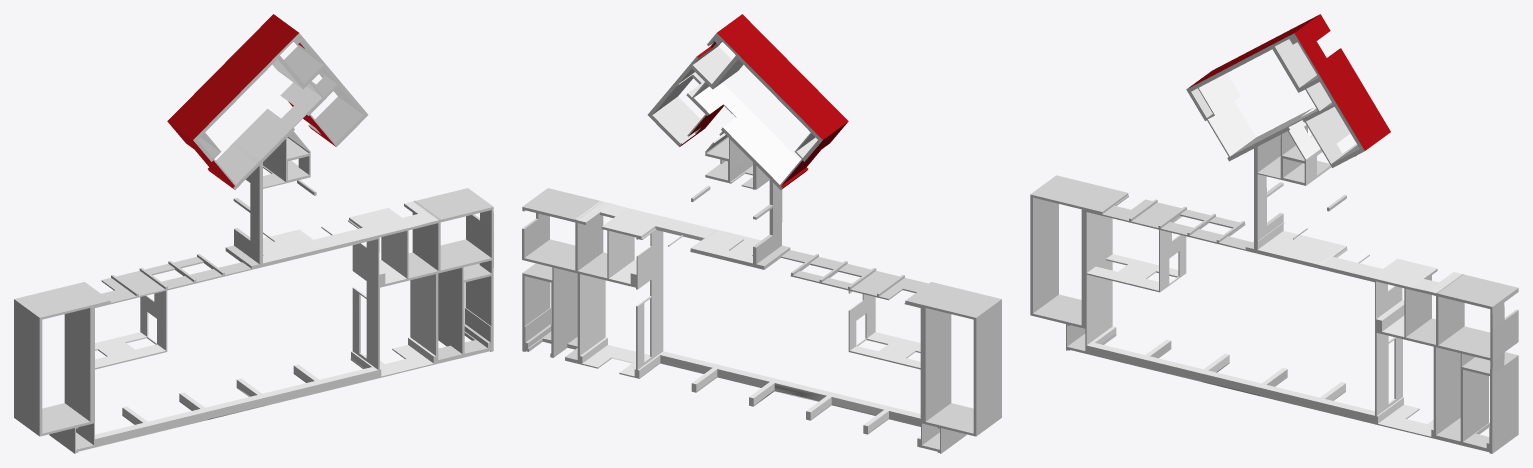
File: walls.obj
3 views of the same model, side by side, from view 1: azimuth 30°, elevation 25°; view 2: azimuth 150°, elevation 25°; view 3: azimuth 330°, elevation 25° (orthographic).
Parts seen in each view (by area): view 1: gf_walls_Cube.001; view 2: gf_walls_Cube.001; view 3: gf_walls_Cube.001.
Part boxes in pixels (x1,y1,x2,y2): gf_walls_Cube.001: [14, 14, 493, 453]; gf_walls_Cube.001: [522, 14, 1001, 453]; gf_walls_Cube.001: [1030, 14, 1518, 453].
Bounding box in the file's own units: 39.63 × 30.55 × 3.9.
Materials: 1 (1 with a texture image).
